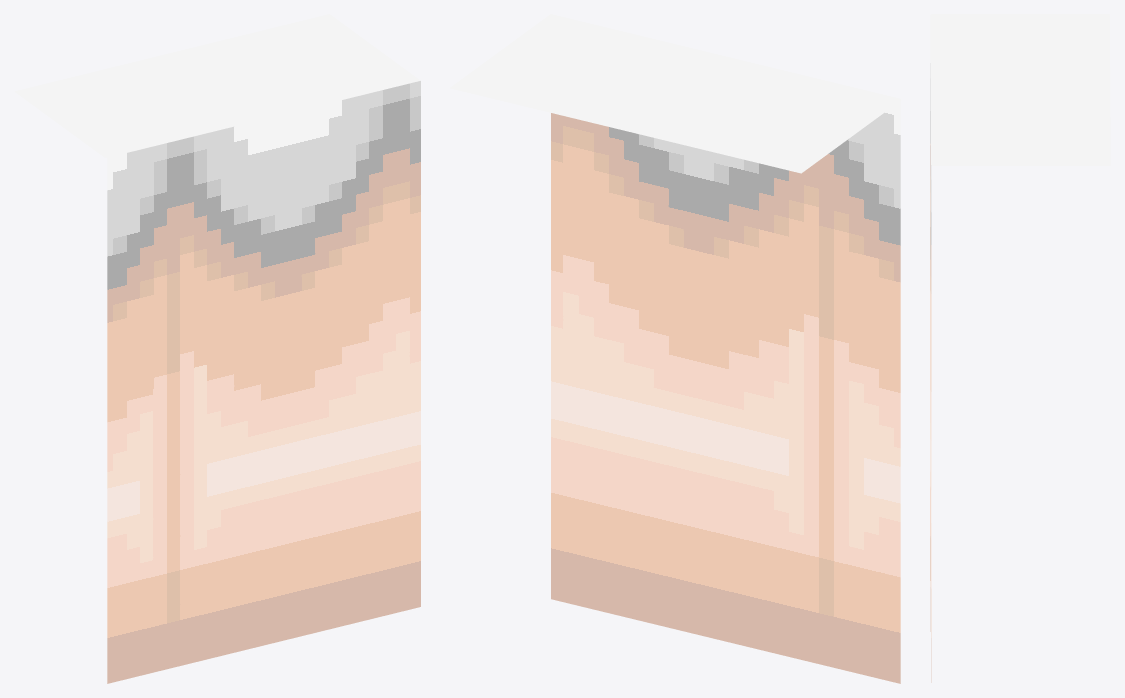
The picture shows the model from 3 angles, left to right: view 1: azimuth 30°, elevation 25°; view 2: azimuth 150°, elevation 25°; view 3: azimuth 270°, elevation 25°; orthographic projection. The views are drawn at different scales.
Size of the model in its own units: 1 by 1.59 by 0.5027.
Materials: 1 (1 with a texture image).
